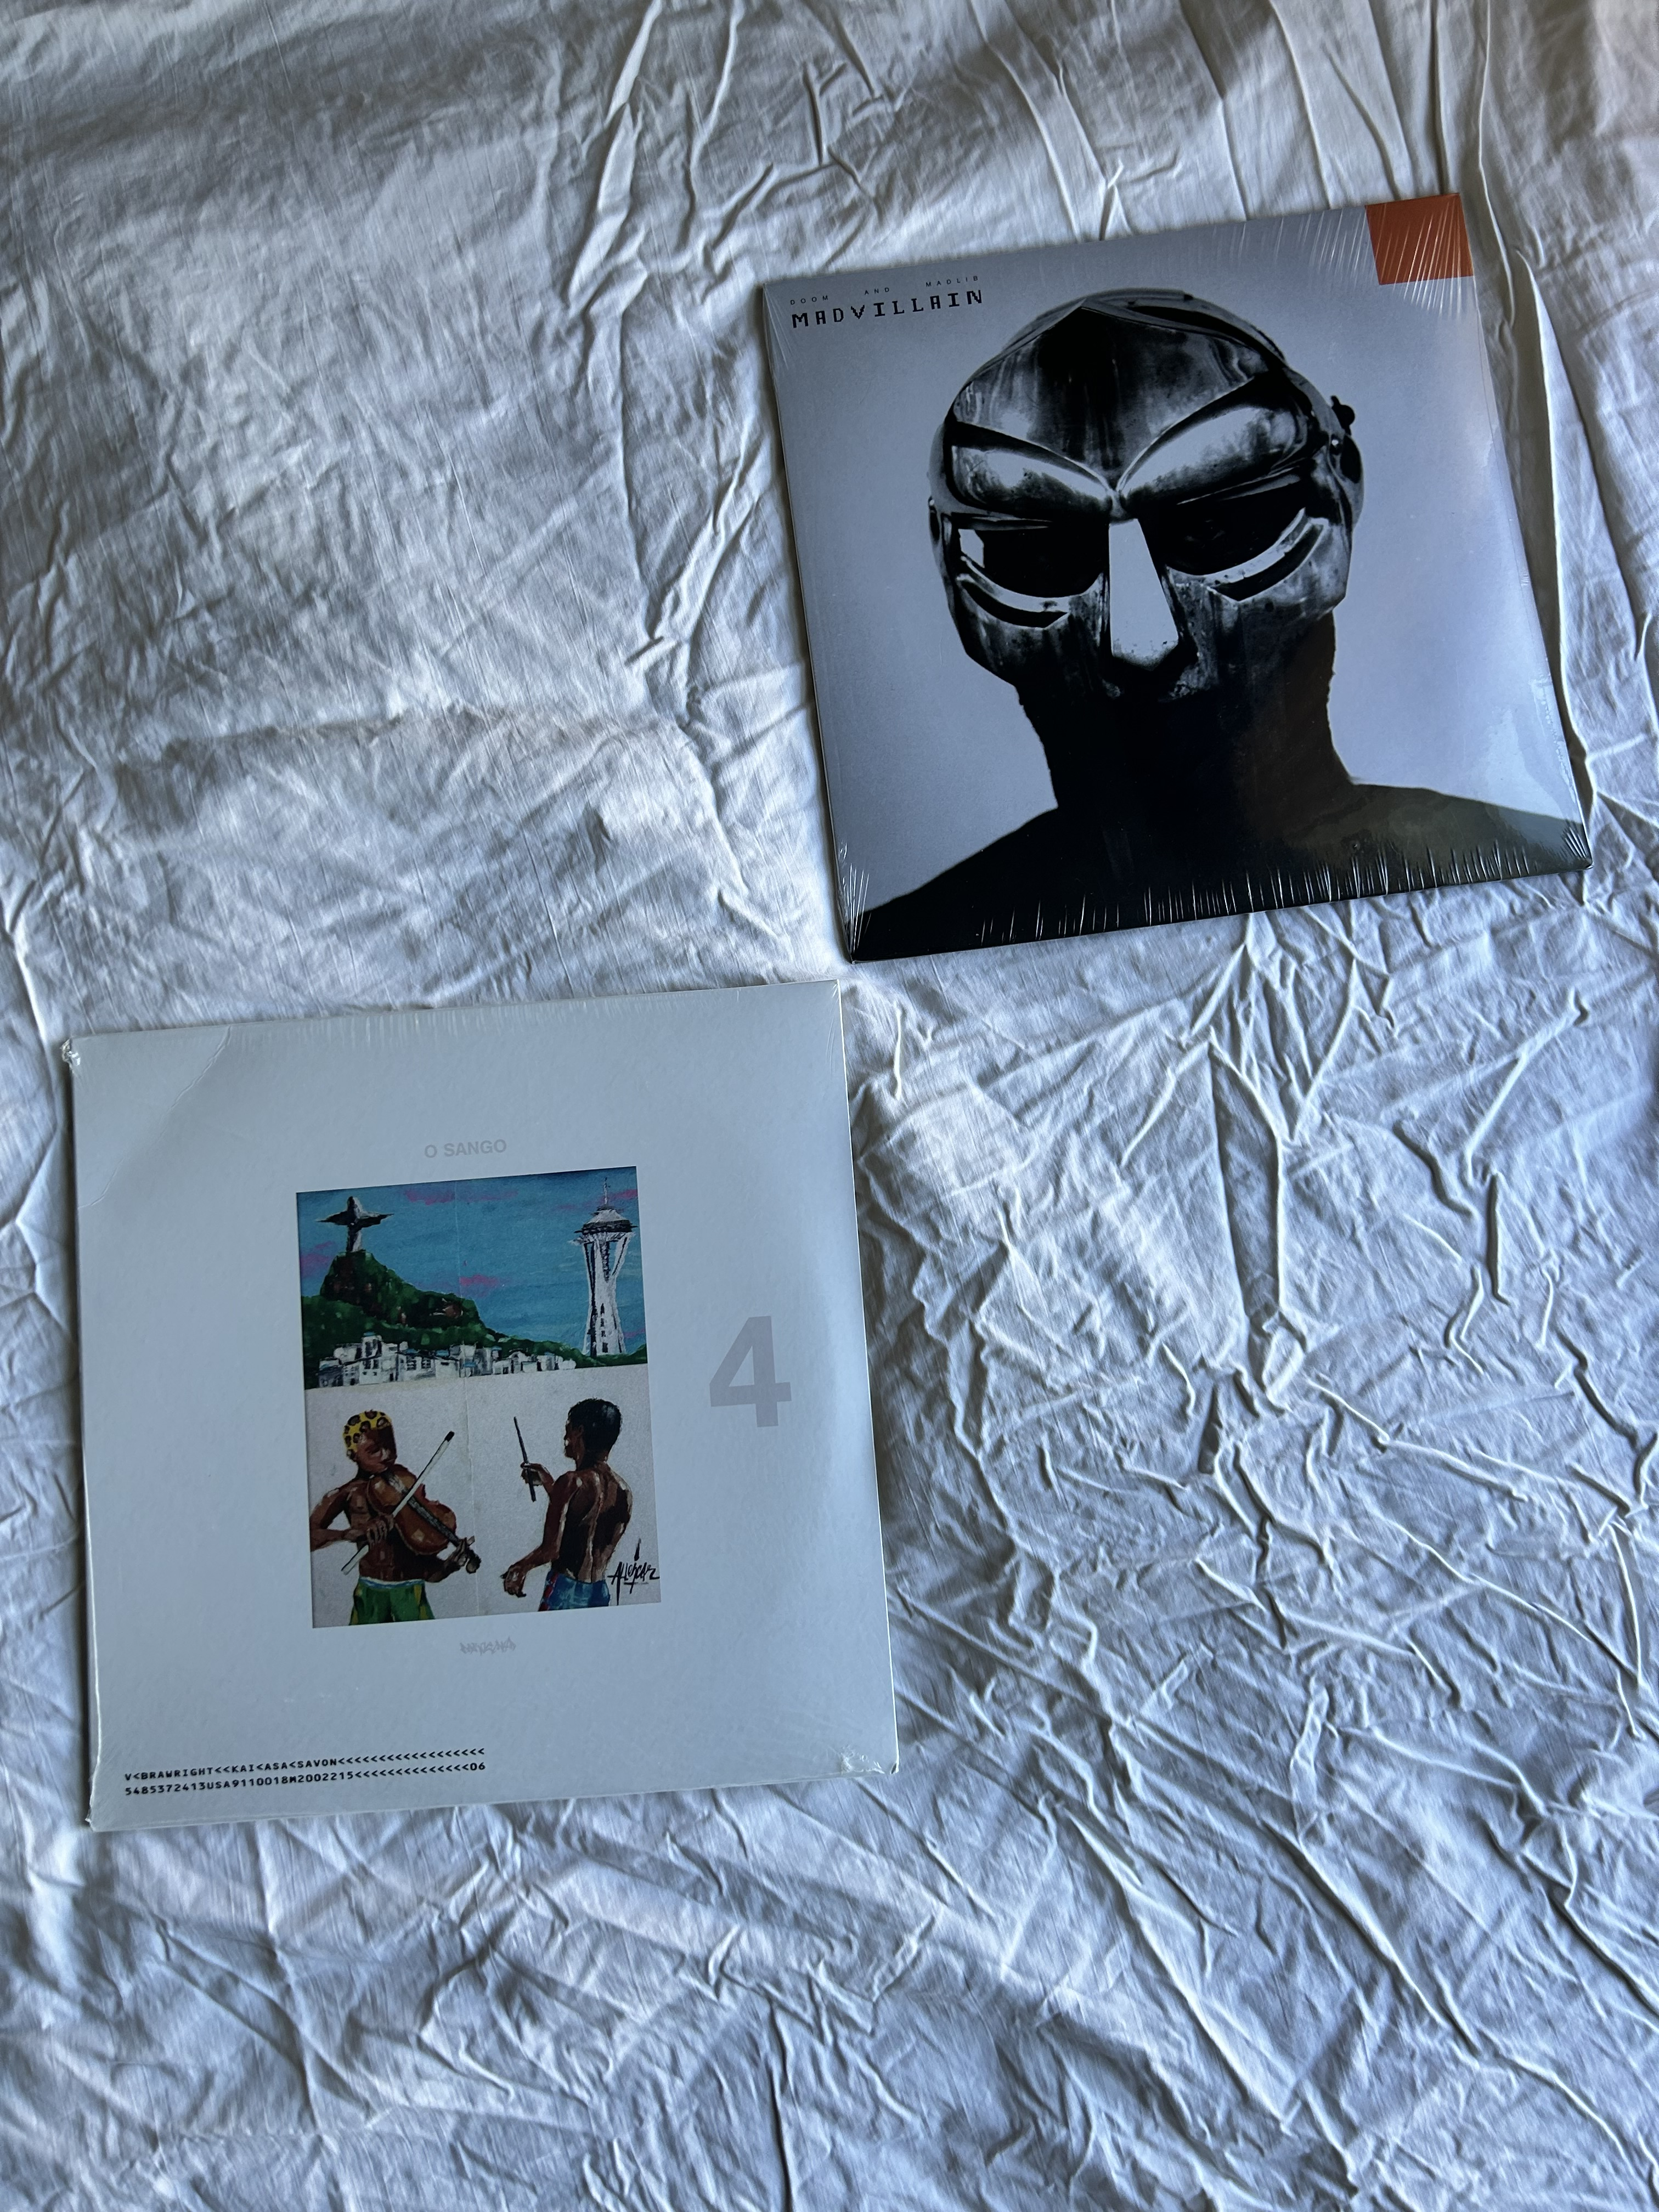madvillain_madvillainy: (732, 263, 1520, 986)
sango_da rocinha 4: (24, 1033, 843, 1829)
